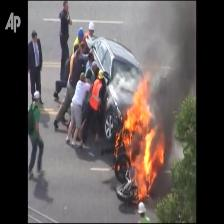fire: (121, 105, 156, 189)
smoke: (168, 11, 184, 105)
